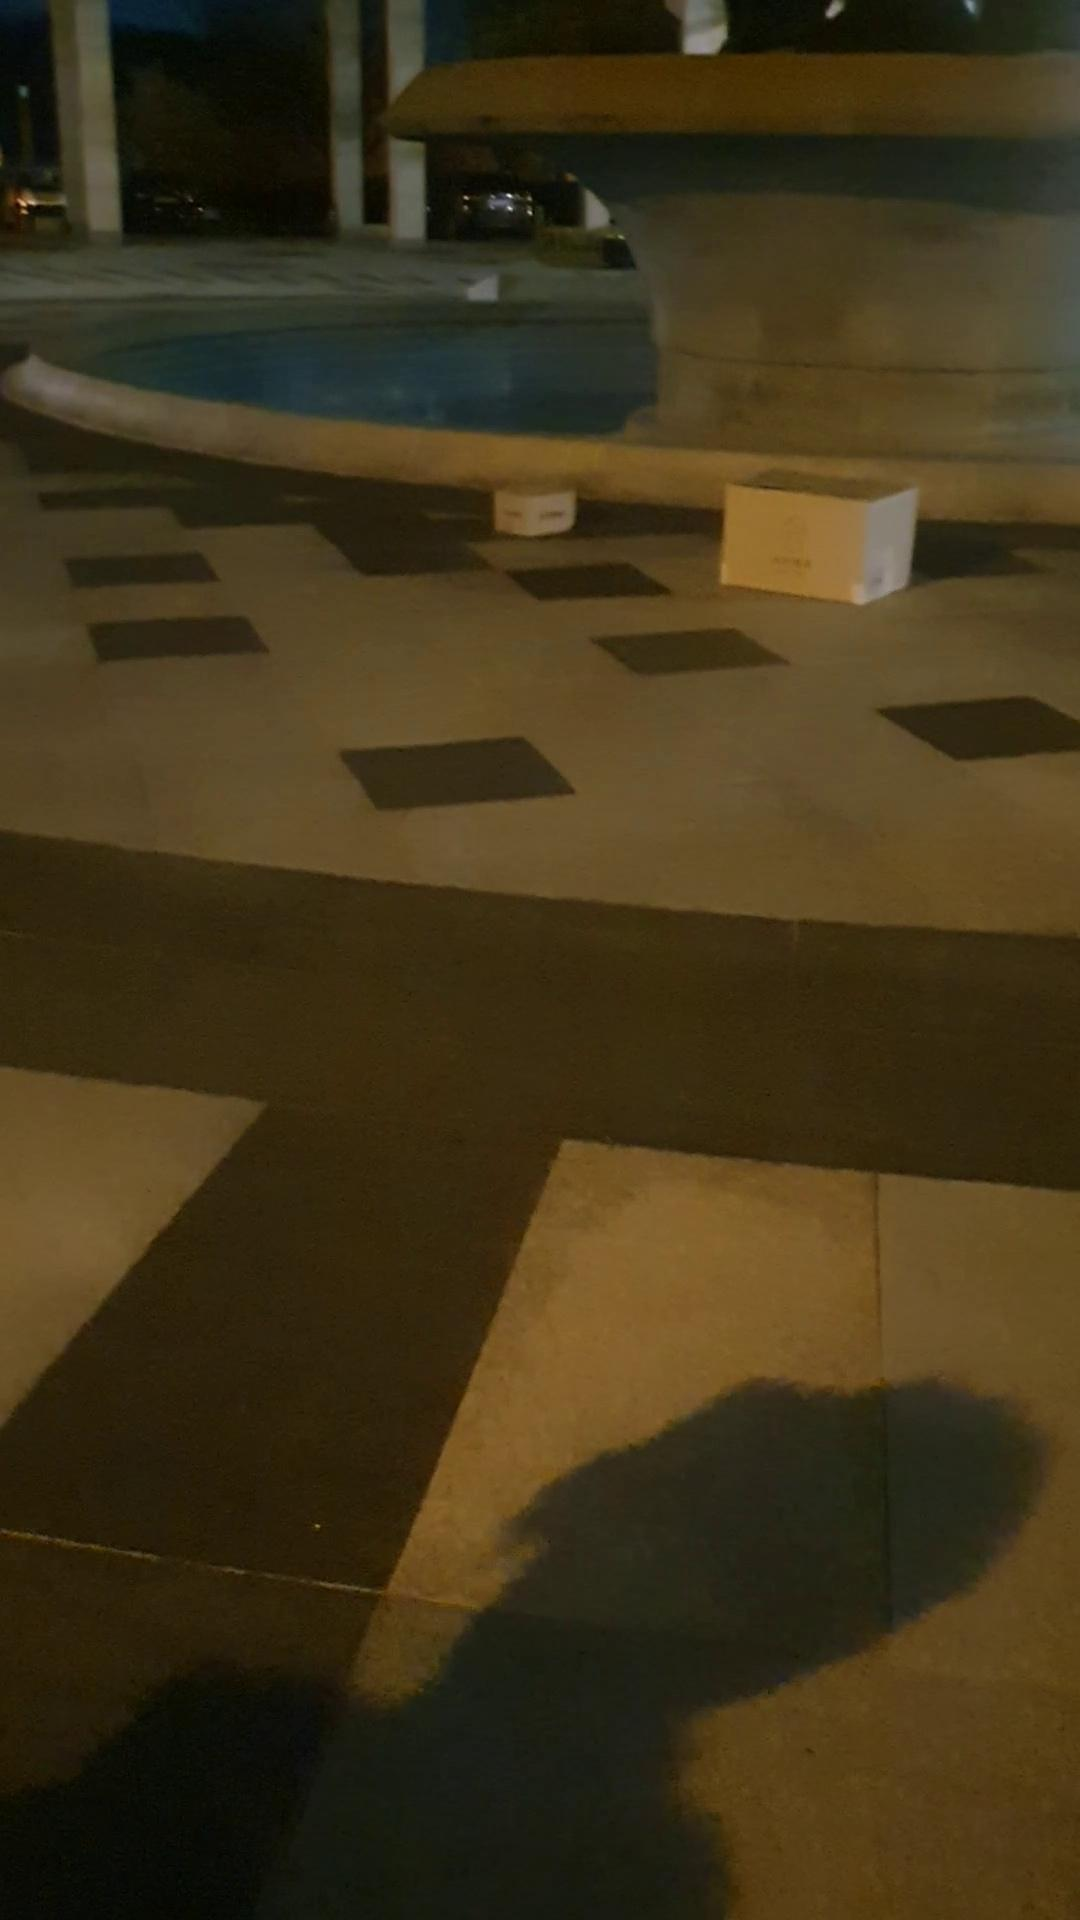Box: (698, 454, 942, 611), (488, 468, 587, 543)
